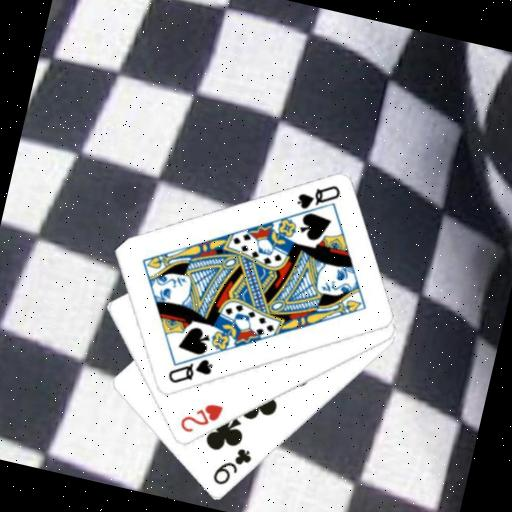2H: (175, 394, 226, 441)
9C: (208, 440, 256, 493)
QS: (163, 348, 217, 393), (292, 175, 344, 219)
